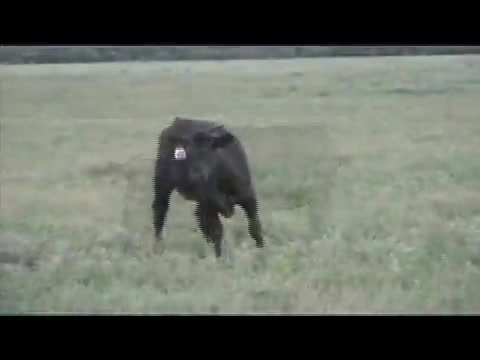cow: (144, 116, 264, 256)
